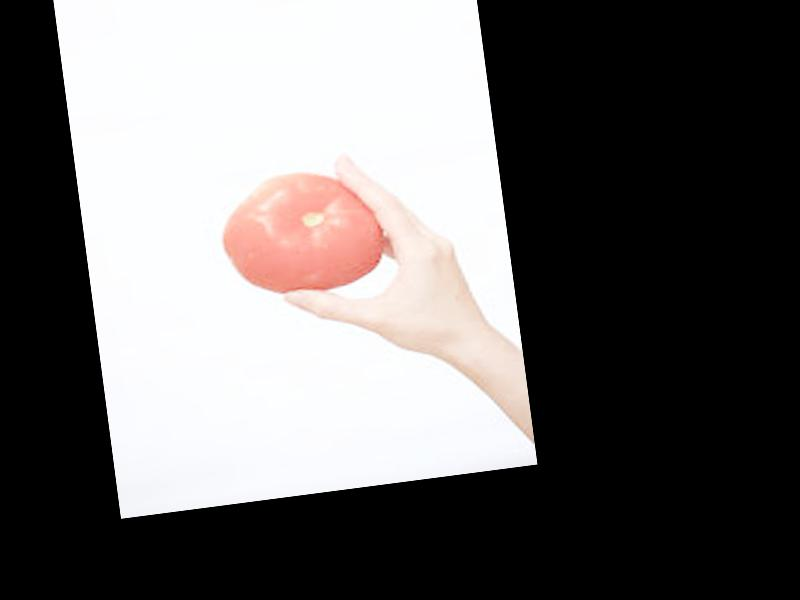Tomato: (216, 163, 385, 301)
